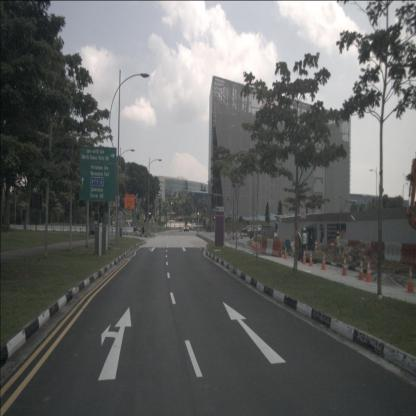barrier: (384, 241, 401, 263), (400, 242, 416, 265), (371, 242, 385, 261), (271, 240, 282, 258), (266, 239, 274, 256), (340, 240, 348, 254), (261, 239, 267, 254)
cone: (404, 267, 416, 295), (364, 259, 373, 283), (357, 258, 365, 280), (341, 257, 348, 276), (320, 254, 327, 270), (308, 251, 314, 266), (282, 246, 288, 260), (302, 249, 307, 265), (258, 242, 260, 253), (254, 241, 256, 251), (277, 235, 279, 244)
